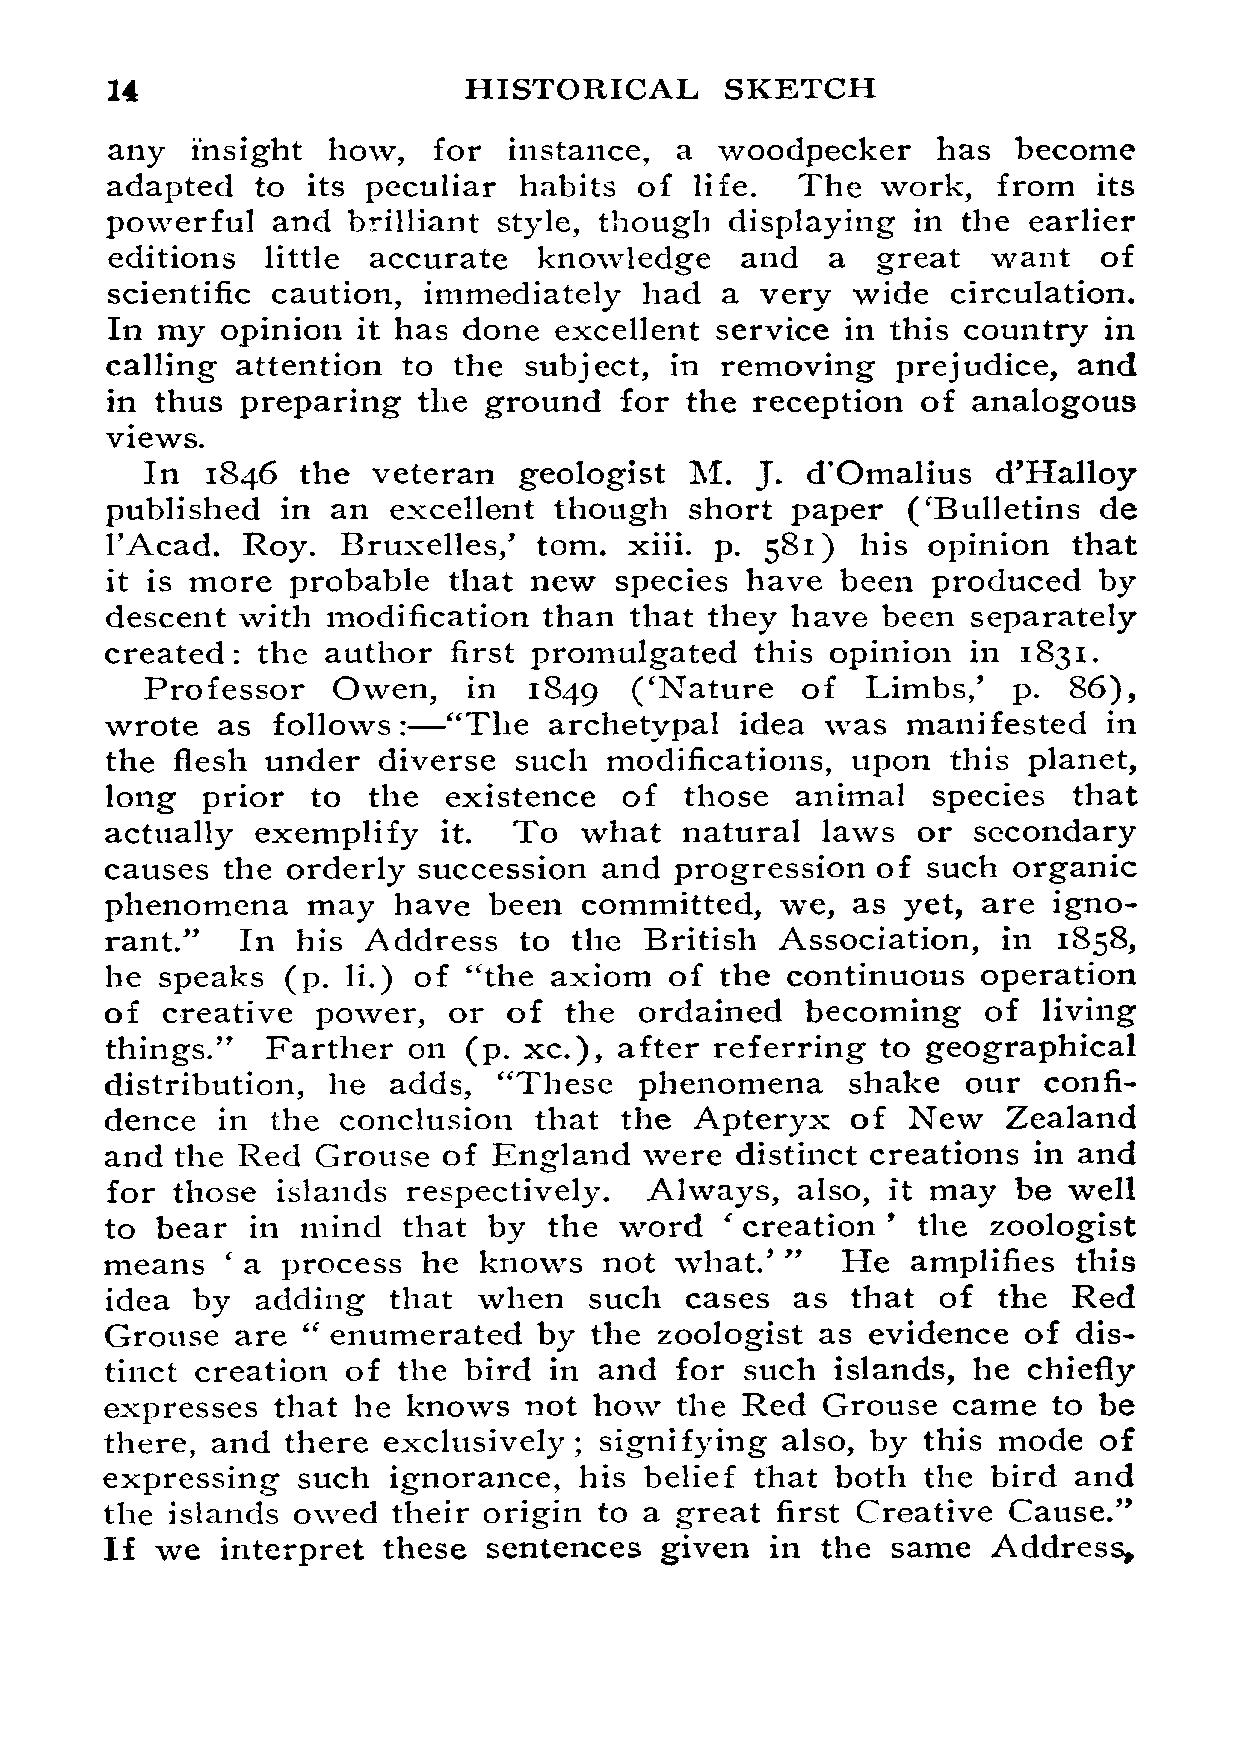content: (98, 132, 1146, 1567)
content_chapter: (452, 68, 880, 102)
content_pagenumber: (101, 67, 144, 107)
